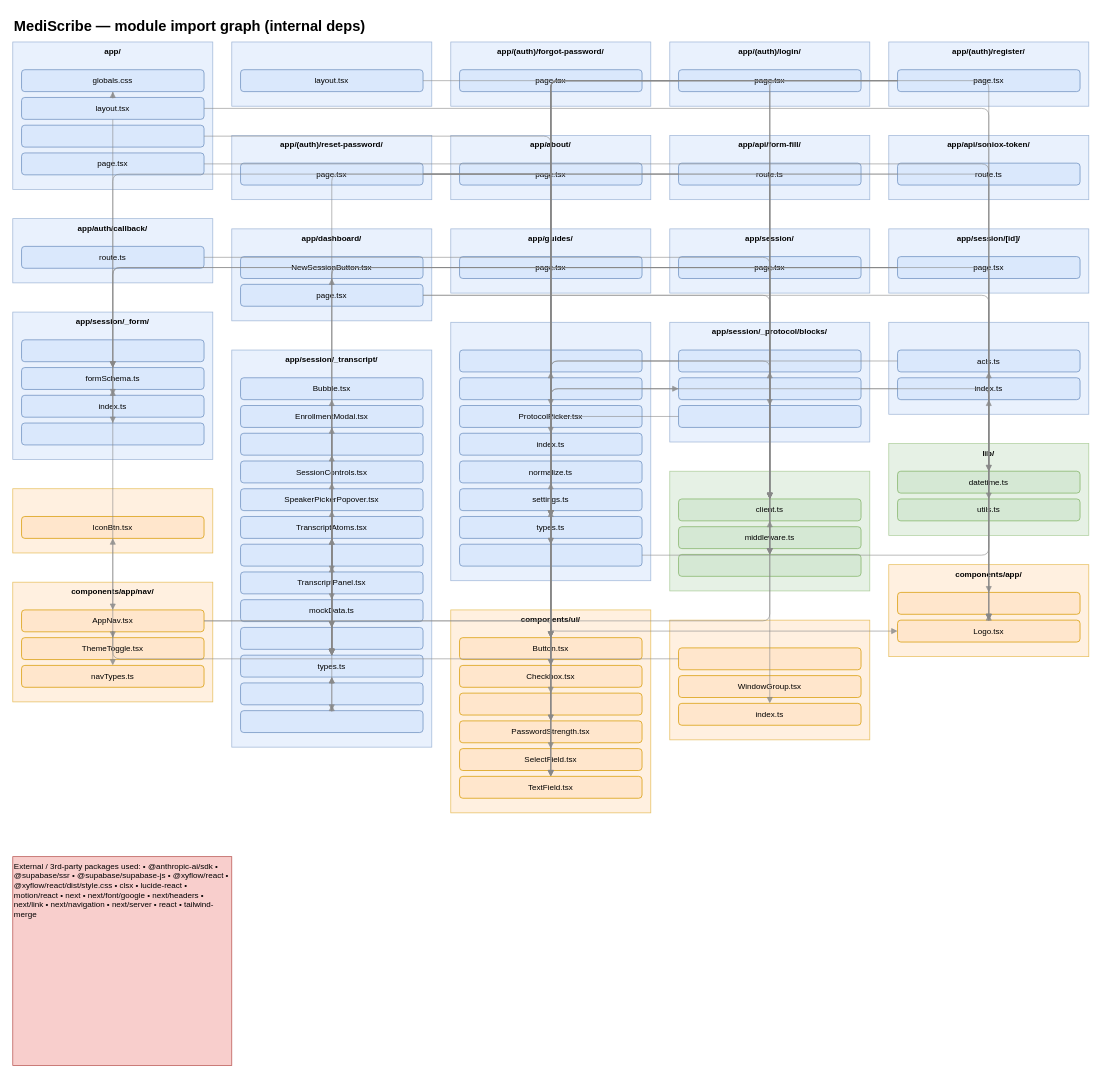
The diagram is 1102 pixels wide and 1078 high, and some of its shapes have lost their labels. The box of each missing label's shape, as (x1, y1, x2, y2) in pixels:
AnimatedLogo.tsx: (897, 592, 1080, 614)
app/(auth)/: (231, 41, 432, 106)
app/session/_protocol/: (450, 322, 651, 581)
app/session/_protocol/protocols/: (888, 322, 1089, 414)
components/: (12, 488, 213, 553)
components/window/: (669, 619, 870, 740)
CountdownRing.tsx: (678, 349, 861, 372)
flowNodes.tsx: (678, 405, 861, 427)
FuzzyText.tsx: (459, 692, 642, 715)
lib/supabase/: (669, 470, 870, 591)
MedicalBackground.tsx: (240, 433, 423, 455)
MoHForm.tsx: (21, 339, 204, 362)
not-found.tsx: (21, 124, 204, 147)
ProtocolFlow.tsx: (459, 349, 642, 372)
ProtocolPanel.tsx: (459, 377, 642, 400)
server.ts: (678, 554, 861, 576)
staffDb.ts: (240, 627, 423, 649)
Timeline.tsx: (678, 377, 861, 400)
TranscriptHeader.tsx: (240, 543, 423, 566)
useEnrollment.ts: (240, 682, 423, 705)
useMoHForm.ts: (21, 422, 204, 445)
useProtocolEngine.ts: (459, 543, 642, 566)
useTranscript.ts: (240, 710, 423, 733)
Window.tsx: (678, 647, 861, 670)
